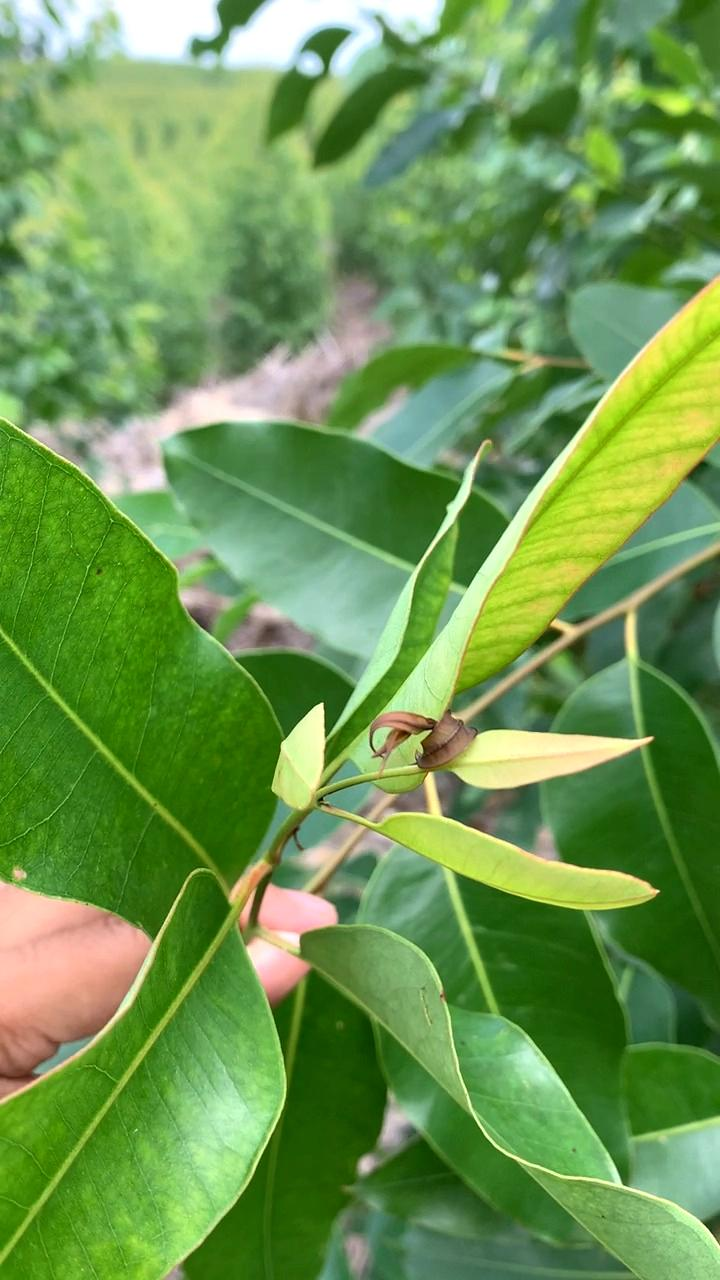Helopeltis-Withered Sprout: (360, 685, 497, 777)
